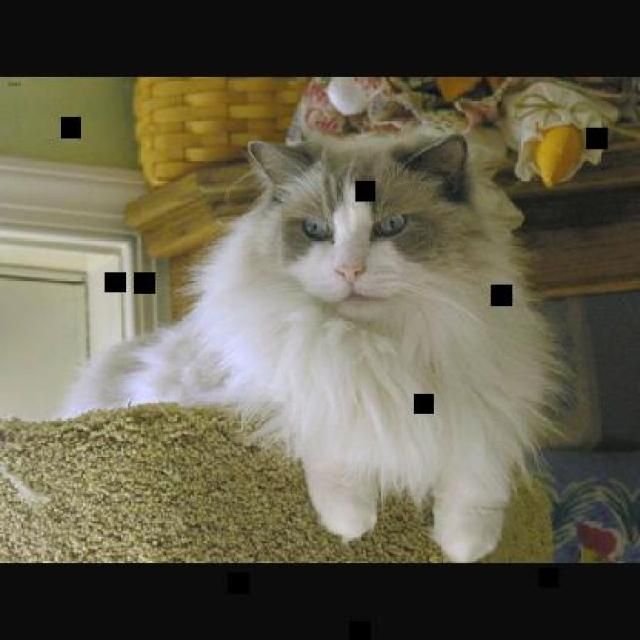unauthorized: (58, 126, 577, 562)
